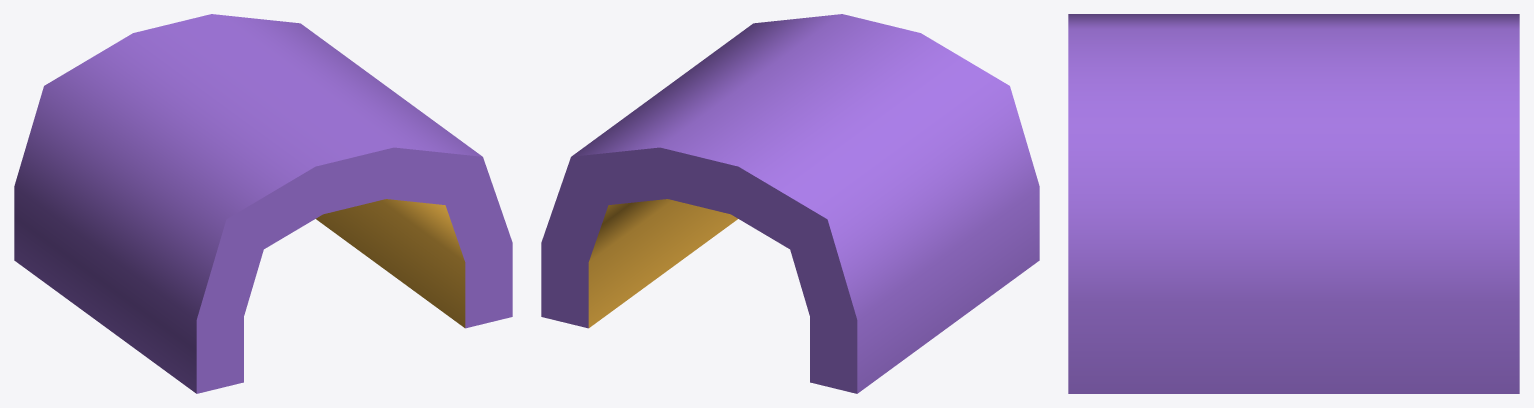
The model's file is kenney-marble-tunnel.glb.
The picture shows the model from 3 angles, left to right: view 1: azimuth 30°, elevation 25°; view 2: azimuth 150°, elevation 25°; view 3: azimuth 270°, elevation 25°; orthographic projection. The views are drawn at different scales.
Visible parts, largest first — view 1: tunnel; view 2: tunnel; view 3: tunnel.
Boxes of the visible parts, left/top/right/bottom form: tunnel: left=14, top=14, right=512, bottom=393; tunnel: left=541, top=14, right=1039, bottom=393; tunnel: left=1068, top=14, right=1519, bottom=393.
Bounding box in the file's own units: 1 × 0.6001 × 1.
Materials: 1 (1 with a texture image).
